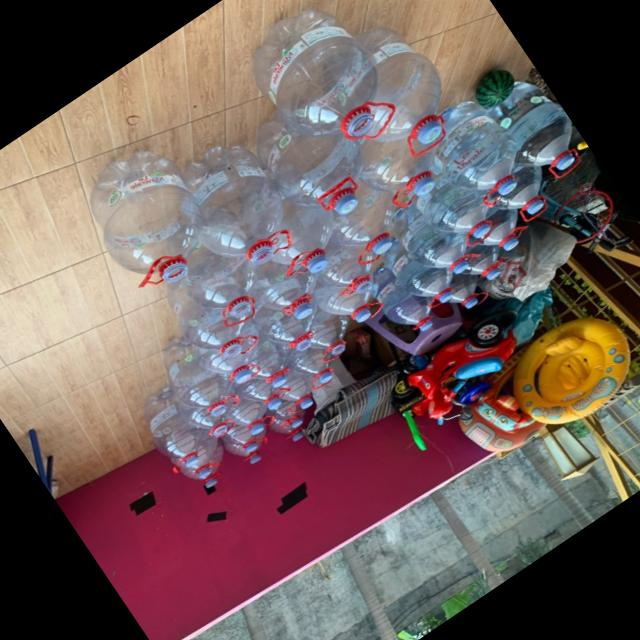Galon: (0, 0, 630, 514)
